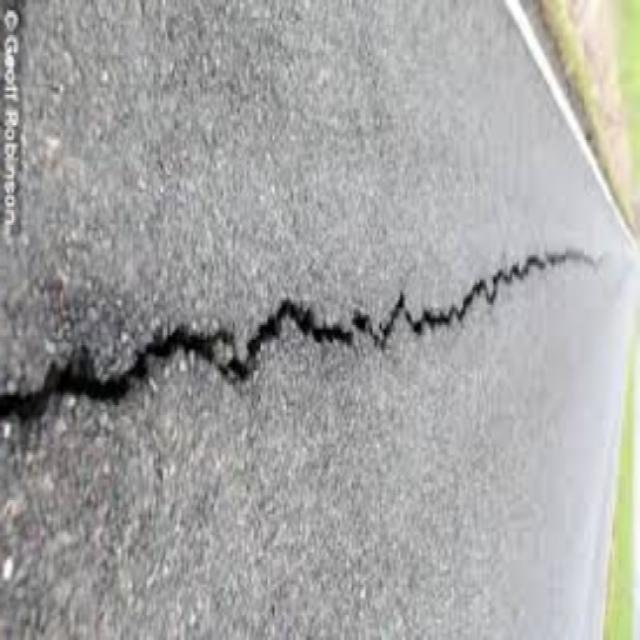Transverse: (3, 266, 185, 426), (265, 289, 466, 366), (466, 241, 606, 313)
Turtle-shell patterned: (188, 315, 259, 393)
